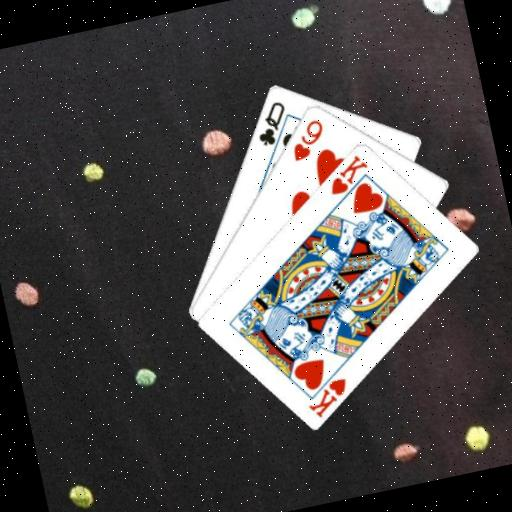9H: (283, 114, 330, 163)
KH: (321, 148, 374, 197), (300, 373, 354, 421)
QC: (248, 95, 294, 149)
